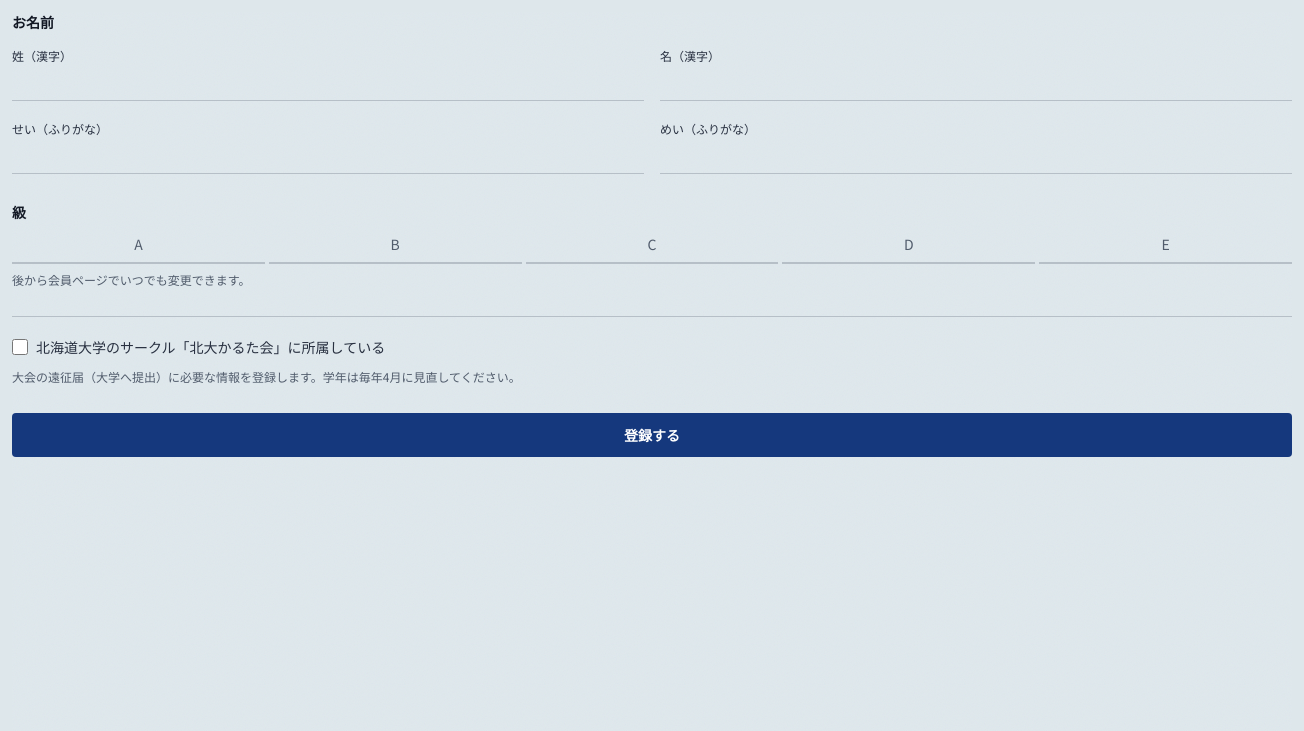
it: RegisterForm › 級A: 段位セグメントと全日協チェックが表示される
Click the radio button named "A級". click: click(138, 247)
box: [12, 230, 265, 264]
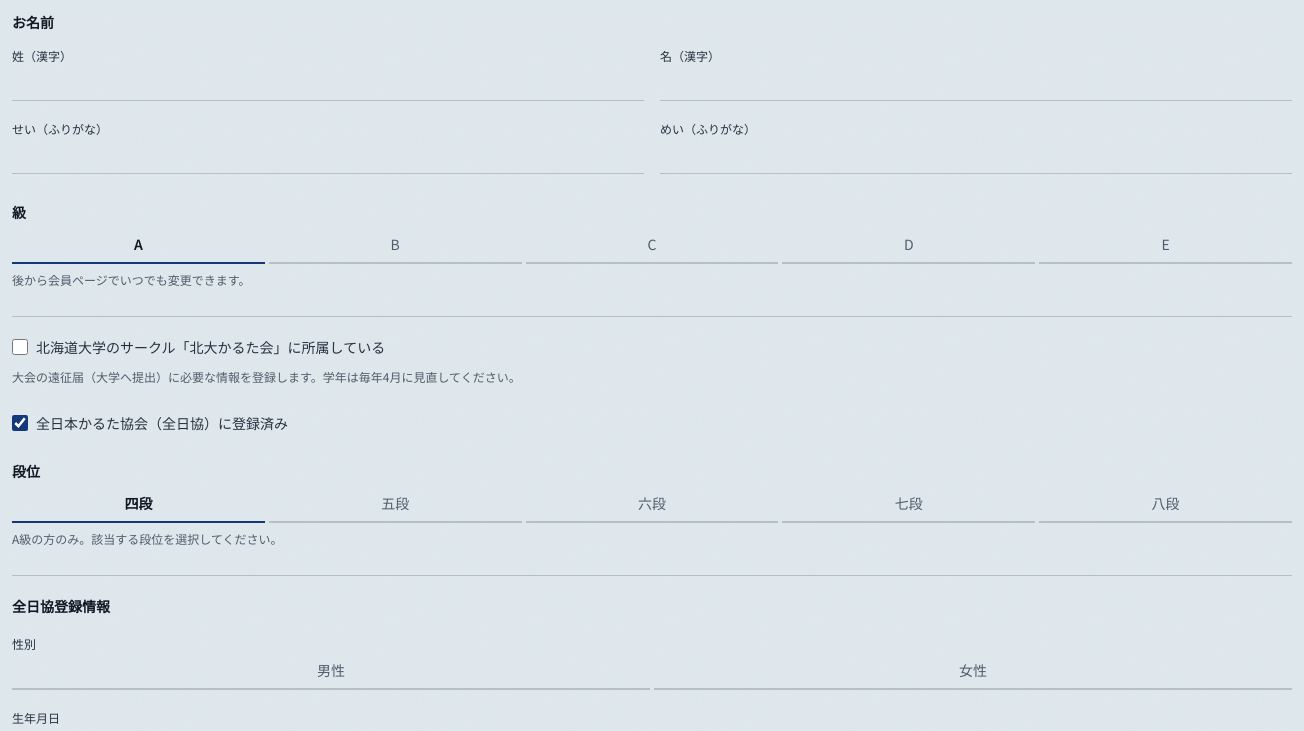
Now the element named "段位" is shown, box [12, 489, 1292, 523]
Now the text "全日本かるた協会（全日協）に登録済み" is shown, box [12, 413, 288, 433]
